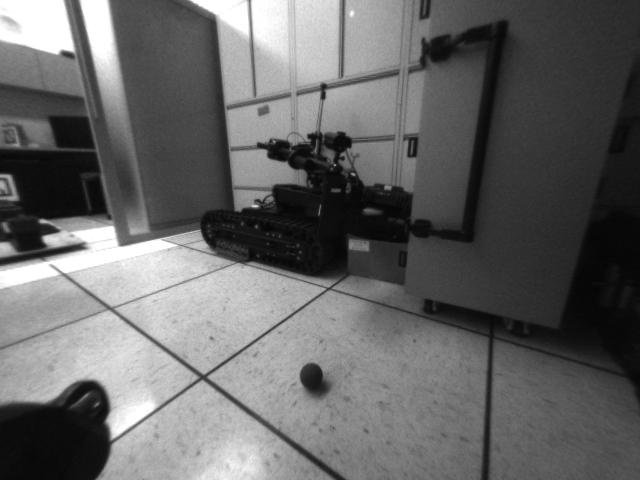dogtoy: (297, 356, 329, 393)
